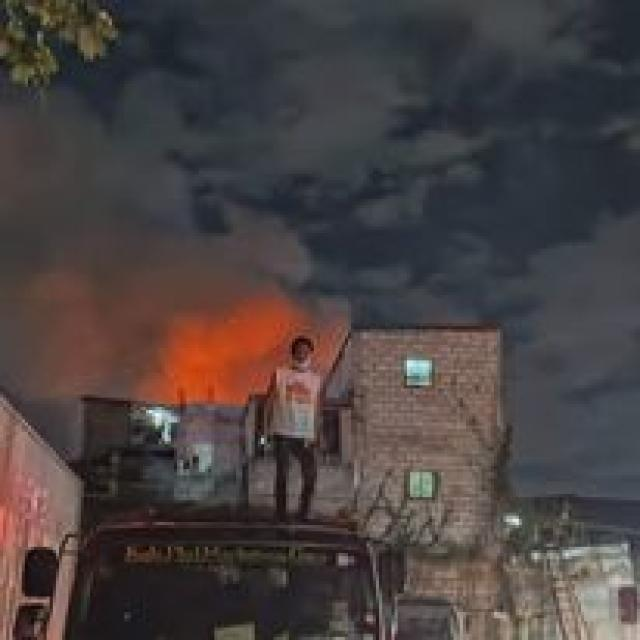Fire: (170, 312, 268, 400)
Smoke: (0, 127, 249, 366)
